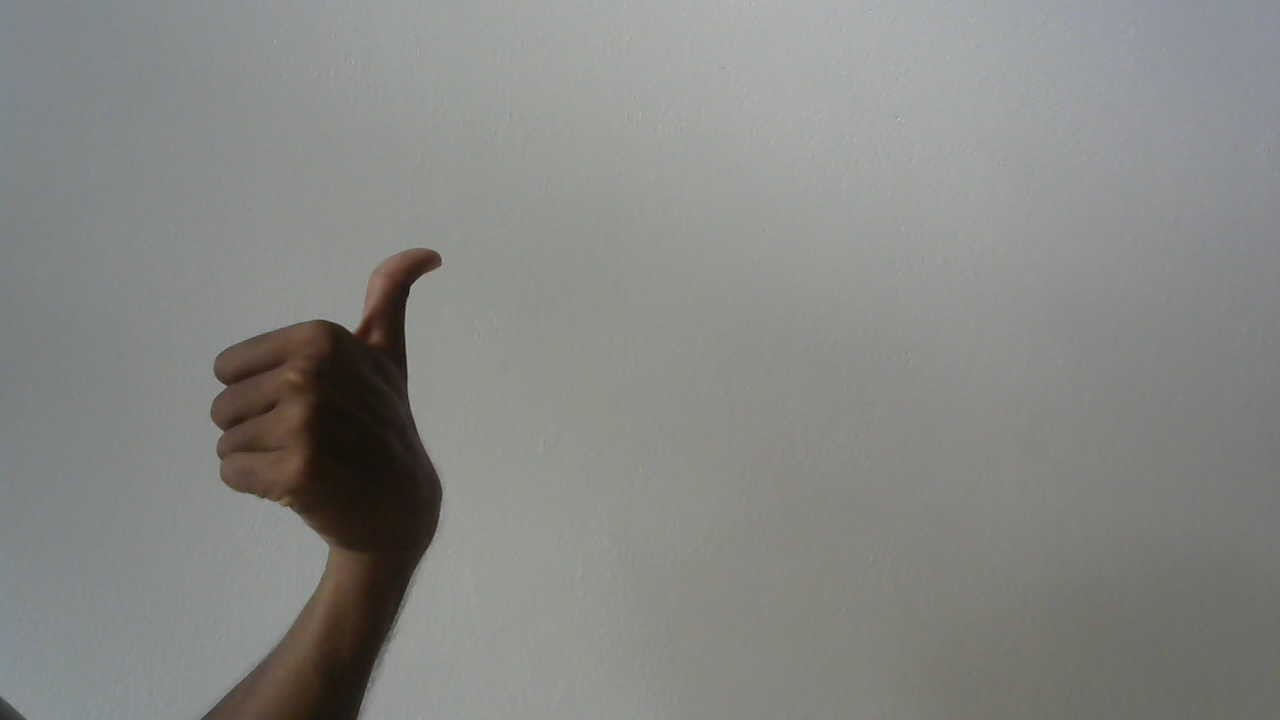thumbsup: (201, 238, 482, 571)
